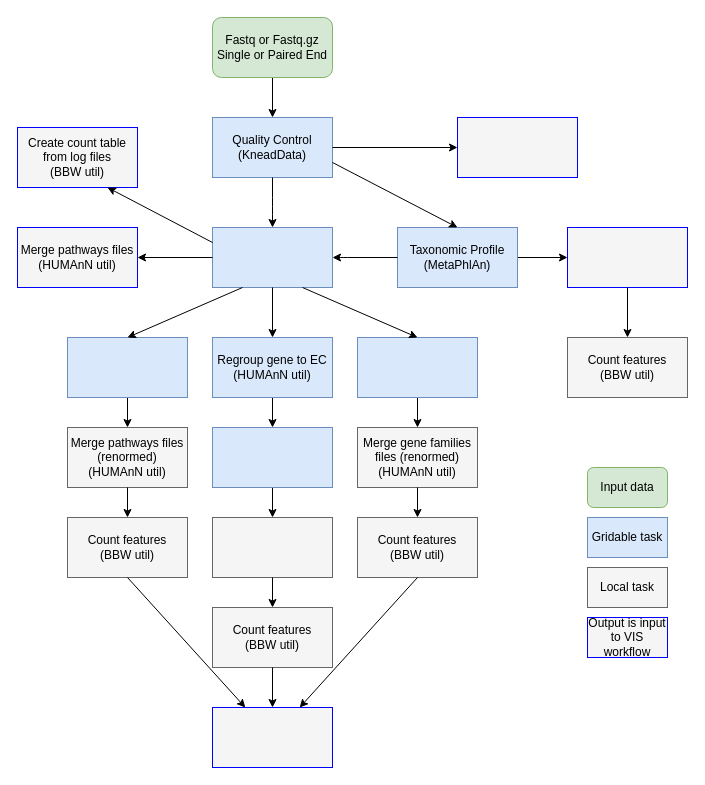
Image size: 705x785. Some labels were removed from this diagram. The shapes that lost their labels are listed below. From the top down, each one's centre as x and y in pixels, then its label:
pixel 517 147: Create read count table (Kneaddata util)
pixel 272 257: Functional Profile (HUMAnN)
pixel 627 257: Merge profiles (HUMAnN util)
pixel 127 367: Normalize pathways (HUMAnN util)
pixel 417 367: Normalize gene families (HUMAnN util)
pixel 272 457: Normalize EC (HUMAnN util)
pixel 272 547: Merge EC files (renormed) (HUMAnN util)
pixel 272 737: Merge feature counts (HUMAnN util)
